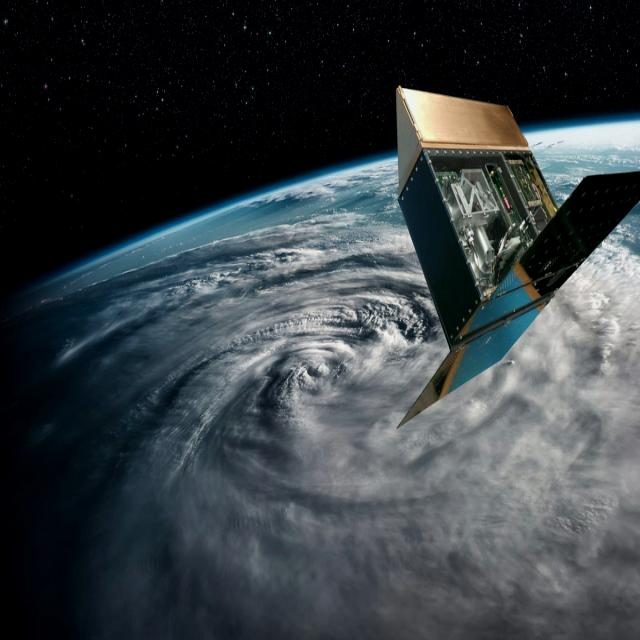medium_debris: (385, 70, 640, 436)
